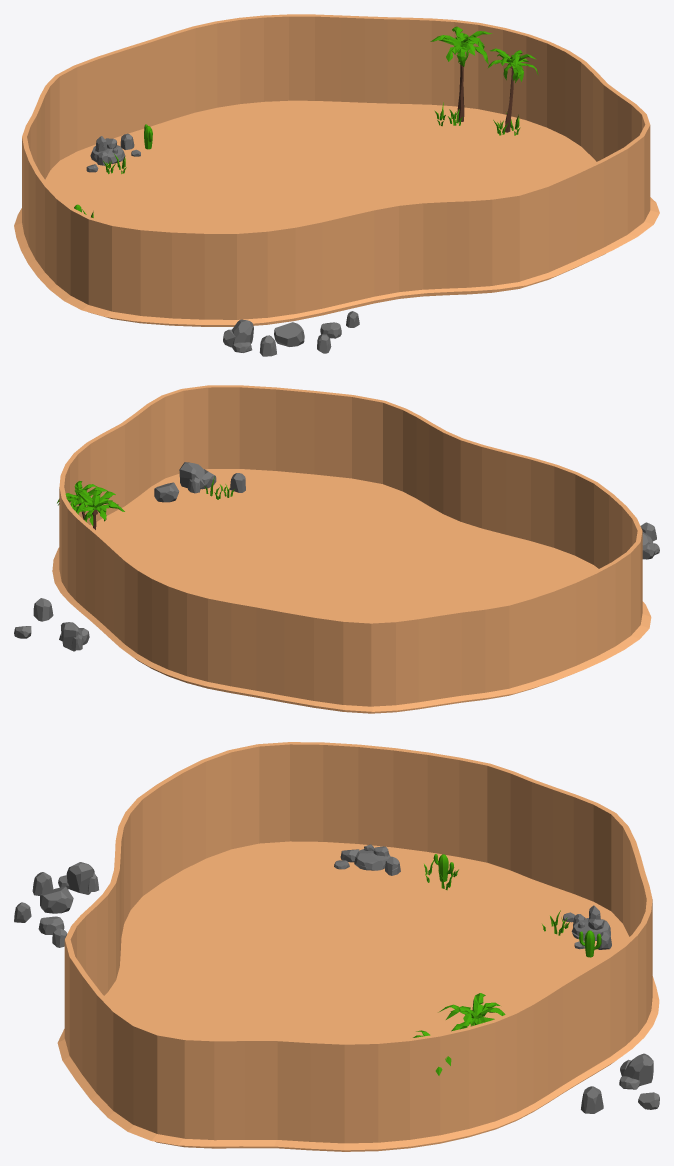
File: Island.fbx
The picture shows the model from 3 angles, top to bottom: view 1: azimuth 30°, elevation 25°; view 2: azimuth 150°, elevation 25°; view 3: azimuth 270°, elevation 25°; orthographic projection. The views are drawn at different scales.
Visible parts, largest first — view 1: Wall, Island, Palm, Rock.049, Palm.2, Rock.055, Rock.045; view 2: Wall, Island, Palm, Rock.048, Rock.054; view 3: Wall, Island, Rock.046, Rock.049, Rock.054, Palm, Rock.055, Rock.045.
Boxes of the visible parts, x1,y1,x2,y2 form: Wall: [22, 14, 650, 326]; Island: [14, 100, 659, 324]; Palm: [430, 26, 492, 121]; Rock.049: [86, 133, 140, 172]; Palm.2: [488, 48, 538, 132]; Rock.055: [223, 319, 253, 352]; Rock.045: [274, 322, 304, 346]; Wall: [59, 385, 642, 713]; Island: [52, 469, 651, 711]; Palm: [72, 489, 124, 529]; Rock.048: [179, 462, 216, 493]; Rock.054: [59, 622, 89, 651]; Wall: [64, 742, 652, 1151]; Island: [57, 841, 659, 1150]; Rock.046: [334, 844, 400, 875]; Rock.049: [563, 905, 611, 949]; Rock.054: [619, 1053, 653, 1089]; Palm: [438, 993, 505, 1031]; Rock.055: [58, 862, 98, 894]; Rock.045: [40, 886, 73, 913].
Bounding box in the file's own units: 5101 × 849 × 4476.
